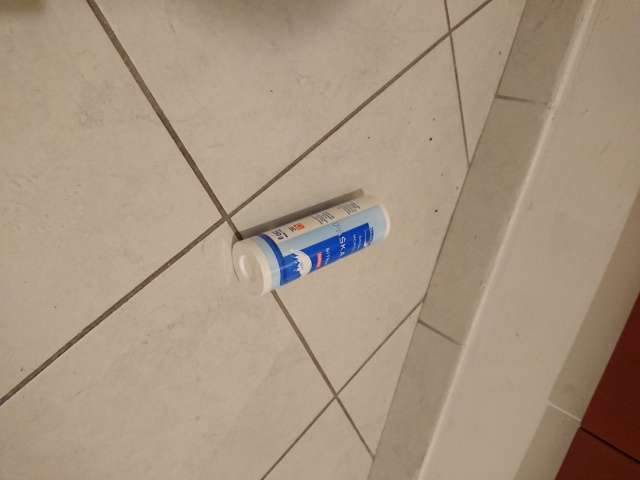Solana Pag Fine Sea Salt 250g: (229, 192, 393, 298)
